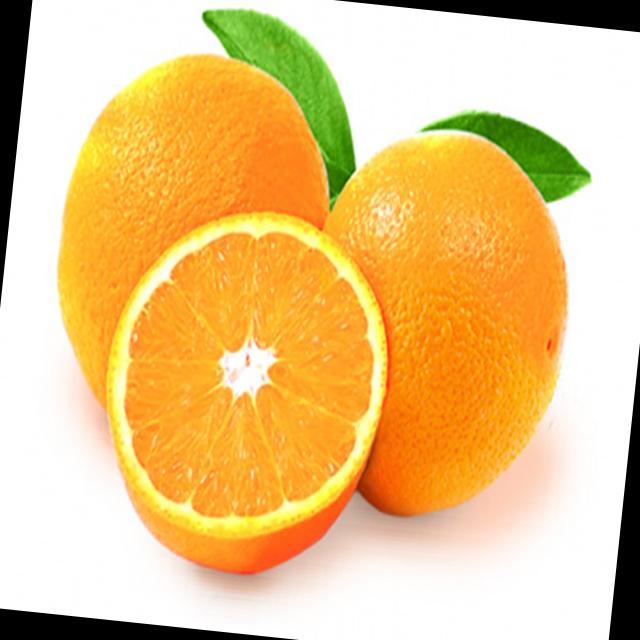orange: (296, 118, 582, 532), (47, 42, 336, 396)
